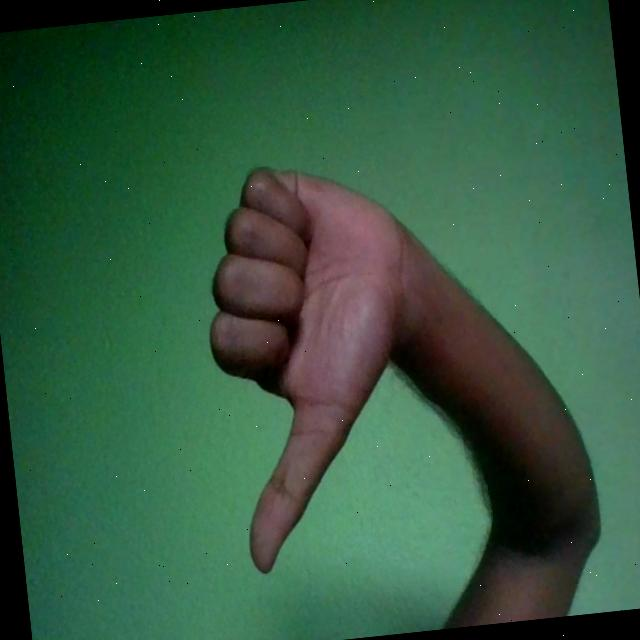Dislike: (192, 152, 432, 578)
